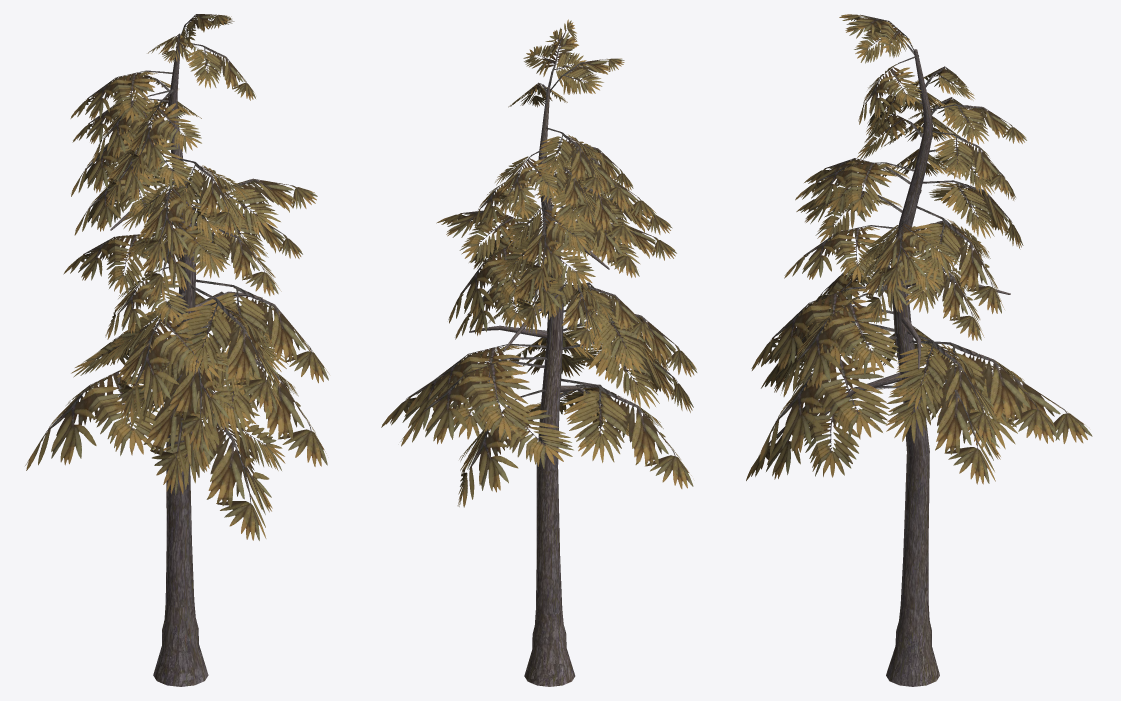
3 renders of one model, left to right at view 1: azimuth 30°, elevation 25°; view 2: azimuth 150°, elevation 25°; view 3: azimuth 270°, elevation 25°, orthographic. The views are drawn at different scales.
Visible parts, largest first — view 1: tree1; view 2: tree1; view 3: tree1.
Boxes of the visible parts, x1,y1,x2,y2 form: tree1: (25,14,329,686); tree1: (381,19,697,686); tree1: (746,14,1092,686).
Size of the model in its own units: 4.59 by 9.39 by 4.72.
Materials: 1 (1 with a texture image).
